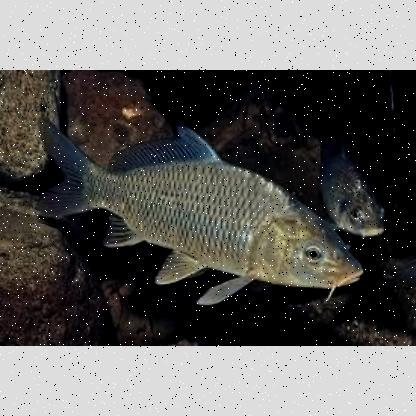ikan-mas: (36, 134, 360, 288), (315, 126, 398, 234)
